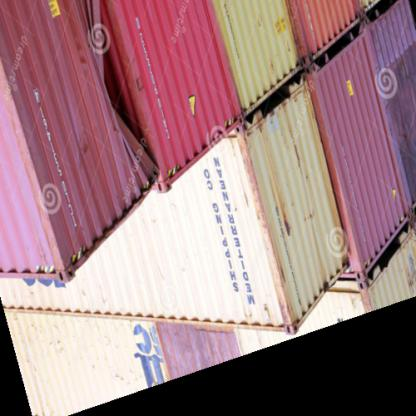Damage: (76, 22, 148, 146)
